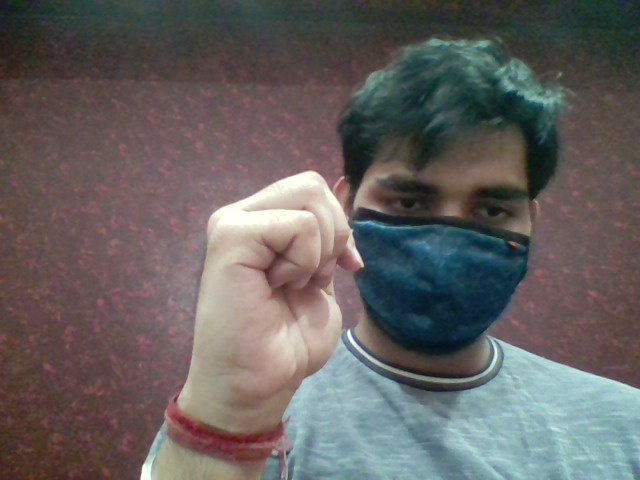m: (179, 160, 371, 403)
